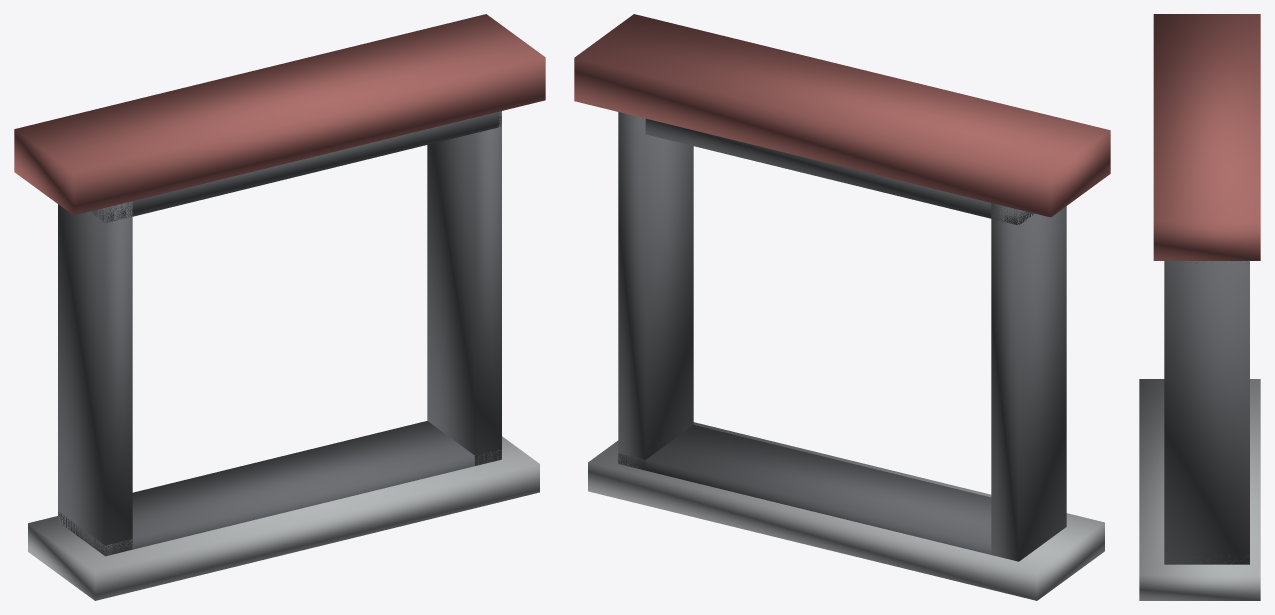
File: egress_window_brick_w100_h90_s88_d24.glb
The picture shows the model from 3 angles, left to right: view 1: azimuth 30°, elevation 25°; view 2: azimuth 150°, elevation 25°; view 3: azimuth 270°, elevation 25°; orthographic projection. The views are drawn at different scales.
Parts seen in each view (by area): view 1: world; view 2: world; view 3: world.
Boxes of the visible parts, x1=… form: world: x1=14, y1=14, x2=545, y2=600; world: x1=574, y1=14, x2=1110, y2=600; world: x1=1139, y1=14, x2=1260, y2=600.
Bounding box in the file's own units: 1.38 × 1.19 × 0.34.
